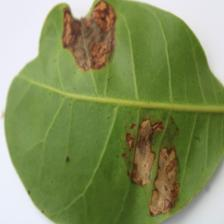leaf miner: (3, 0, 224, 224), (61, 0, 117, 71), (127, 116, 164, 186)
